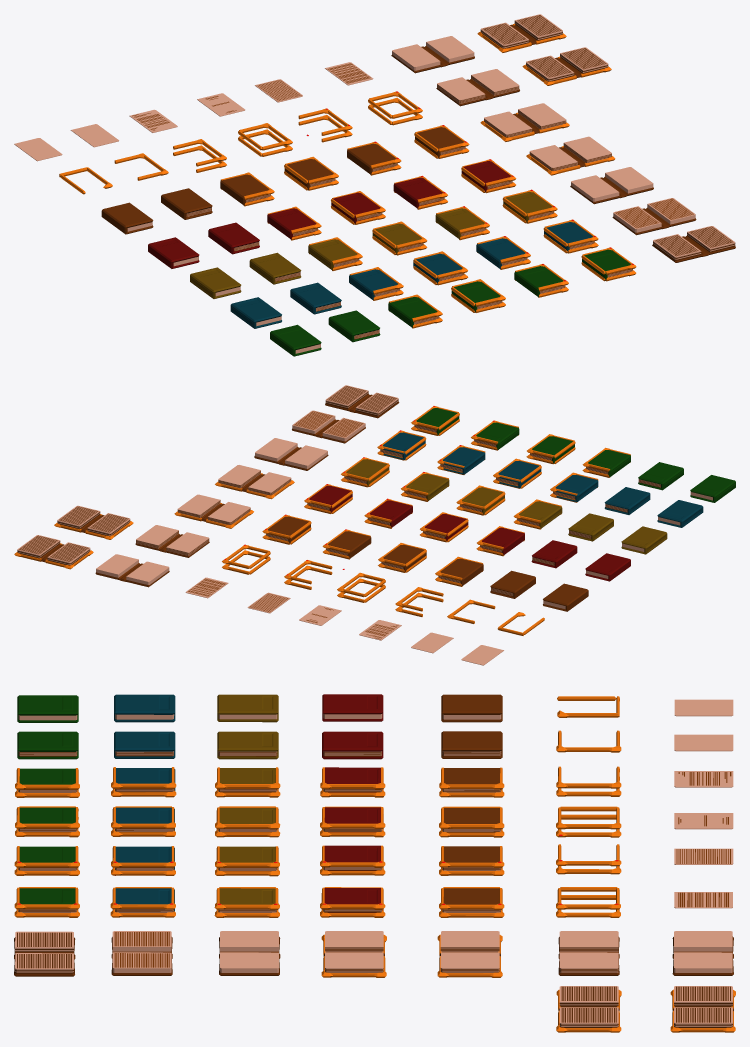
Rendered from booksessentials.fbx.
3 renders of one model, top to bottom at view 1: azimuth 30°, elevation 25°; view 2: azimuth 150°, elevation 25°; view 3: azimuth 270°, elevation 25°, orthographic. The views are drawn at different scales.
Visible parts, largest first — view 1: BookOpen_1, BookOpen_2, BookBasicOpenWriting_1, BookBasicOpenWriting_2, BookBasicOpenWriting, BookOpen, BookBasicOpen, BookBasicOpenWritingTemplate, BookBasicOpenWritingTemplate2, Book3_4, Book1_4, Book3_2 (+37 smaller); view 2: BookOpen_1, BookOpen_2, BookBasicOpenWriting_2, BookBasicOpenWriting_1, BookBasicOpenWritingTemplate2, BookBasicOpen, BookBasicOpenWriting, BookOpen, BookBasicOpenWritingTemplate, Book1_2, Book3_4, Book_4 (+37 smaller); view 3: BookOpen_2, BookBasicOpenWriting_1, BookBasicOpenWriting_2, BookOpen_1, BookBasicOpenWritingTemplate2, BookBasicOpenWriting, BookOpen, BookBasicOpenWritingTemplate, BookBasicOpen, Book2_2, Book3_4, Book4_4 (+37 smaller).
Boxes of the visible parts, left/top/right/bottom form: BookOpen_1: left=480, top=103, right=569, bottom=141; BookOpen_2: left=526, top=136, right=615, bottom=175; BookBasicOpenWriting_1: left=477, top=14, right=566, bottom=52; BookBasicOpenWriting_2: left=522, top=47, right=611, bottom=85; BookBasicOpenWriting: left=612, top=198, right=696, bottom=235; BookOpen: left=436, top=69, right=519, bottom=106; BookBasicOpen: left=391, top=36, right=474, bottom=73; BookBasicOpenWritingTemplate: left=570, top=167, right=653, bottom=204; BookBasicOpenWritingTemplate2: left=652, top=226, right=735, bottom=262; Book3_4: left=543, top=219, right=598, bottom=253; Book1_4: left=461, top=159, right=516, bottom=193; Book3_2: left=413, top=251, right=468, bottom=285; BookOpen_1: left=174, top=494, right=253, bottom=528; BookOpen_2: left=215, top=465, right=294, bottom=499; BookBasicOpenWriting_2: left=54, top=505, right=133, bottom=539; BookBasicOpenWriting_1: left=14, top=535, right=93, bottom=569; BookBasicOpenWritingTemplate2: left=325, top=385, right=399, bottom=418; BookBasicOpen: left=95, top=554, right=169, bottom=587; BookBasicOpenWriting: left=292, top=410, right=365, bottom=443; BookOpen: left=135, top=525, right=209, bottom=557; BookBasicOpenWritingTemplate: left=254, top=438, right=328, bottom=470; Book1_2: left=420, top=512, right=468, bottom=542; Book3_4: left=377, top=430, right=426, bottom=460; Book_4: left=262, top=514, right=311, bottom=544; BookOpen_2: left=321, top=931, right=386, bottom=977; BookBasicOpenWriting_1: left=670, top=986, right=735, bottom=1032; BookBasicOpenWriting_2: left=556, top=986, right=621, bottom=1032; BookOpen_1: left=437, top=931, right=502, bottom=977; BookBasicOpenWritingTemplate2: left=14, top=931, right=75, bottom=976; BookBasicOpenWriting: left=111, top=931, right=172, bottom=975; BookOpen: left=558, top=931, right=619, bottom=975; BookBasicOpenWritingTemplate: left=219, top=931, right=280, bottom=975; BookBasicOpen: left=672, top=931, right=733, bottom=975; Book2_2: left=215, top=806, right=280, bottom=837; Book3_4: left=110, top=887, right=175, bottom=917; Book4_4: left=14, top=887, right=79, bottom=917.
Bounding box in the file's own units: 5281 × 105 × 4881.
